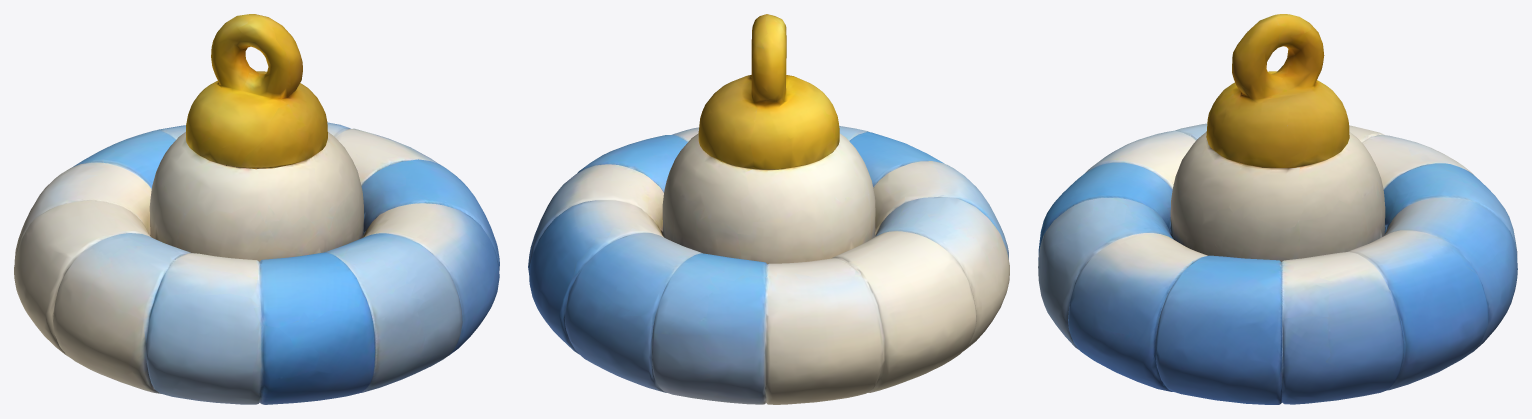
The model's file is buoy-bumper.glb.
The picture shows the model from 3 angles, left to right: view 1: azimuth 30°, elevation 25°; view 2: azimuth 150°, elevation 25°; view 3: azimuth 270°, elevation 25°; orthographic projection.
Visible parts, largest first — view 1: buoy-bumper; view 2: buoy-bumper; view 3: buoy-bumper.
Boxes of the visible parts, x1,y1,x2,y2 form: buoy-bumper: (14, 14, 499, 404); buoy-bumper: (528, 14, 1009, 404); buoy-bumper: (1038, 14, 1517, 404).
Bounding box in the file's own units: 1.55 × 1.1 × 1.53.
1 material, 1 textured.
